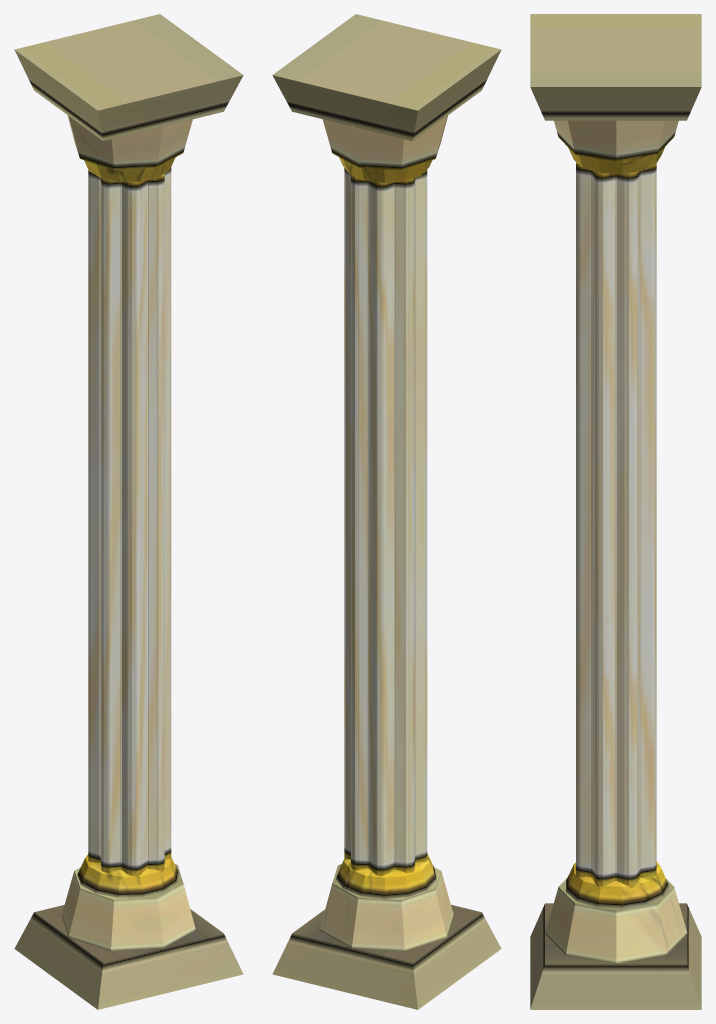
Rendered from Columb2.glb.
3 views of the same model, side by side, from view 1: azimuth 30°, elevation 25°; view 2: azimuth 150°, elevation 25°; view 3: azimuth 270°, elevation 25° (orthographic). The views are drawn at different scales.
Parts seen in each view (by area): view 1: Columb2; view 2: Columb2; view 3: Columb2.
Part boxes in pixels (x1=…): Columb2: x1=14, y1=14, x2=243, y2=1009; Columb2: x1=272, y1=14, x2=501, y2=1009; Columb2: x1=530, y1=14, x2=701, y2=1009.
Bounding box in the file's own units: 153 × 903 × 152.
Materials: 1 (1 with a texture image).
